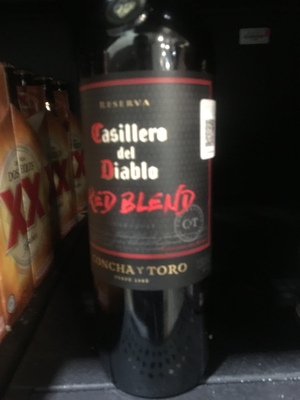casillero del diablo red blend: (75, 1, 226, 380)
